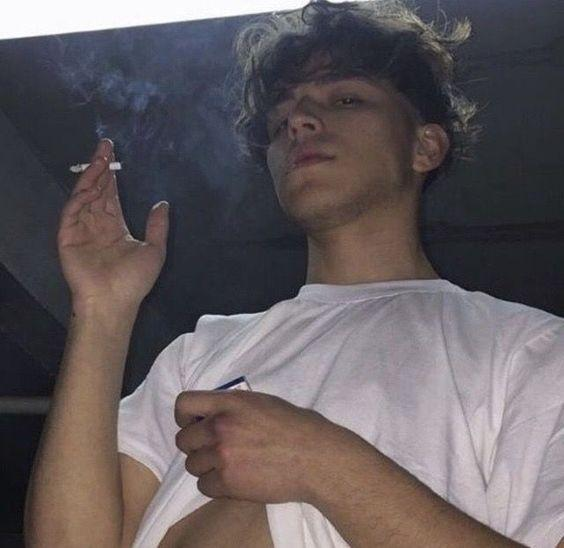cigarette: (69, 162, 122, 173)
